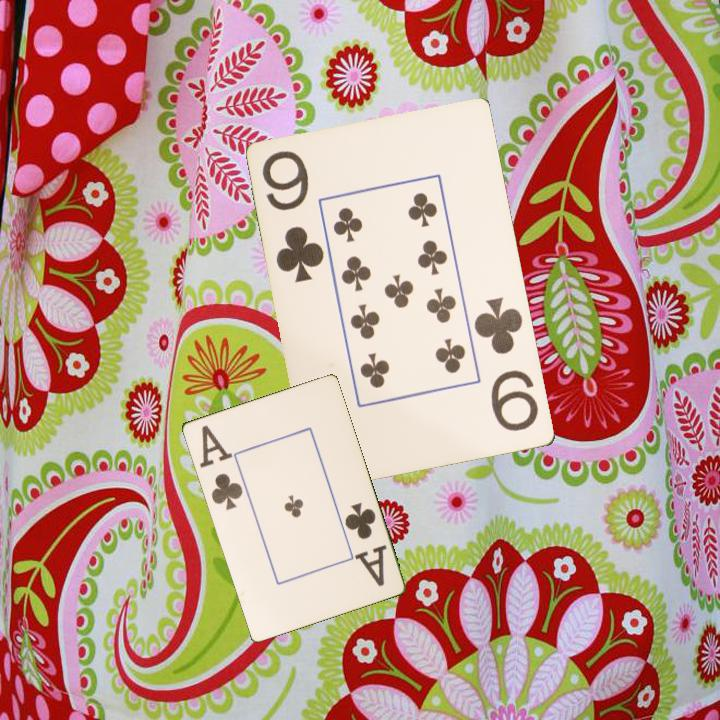9c: (471, 294, 542, 435), (259, 147, 328, 286)
Ac: (195, 421, 245, 513), (341, 498, 389, 589)
